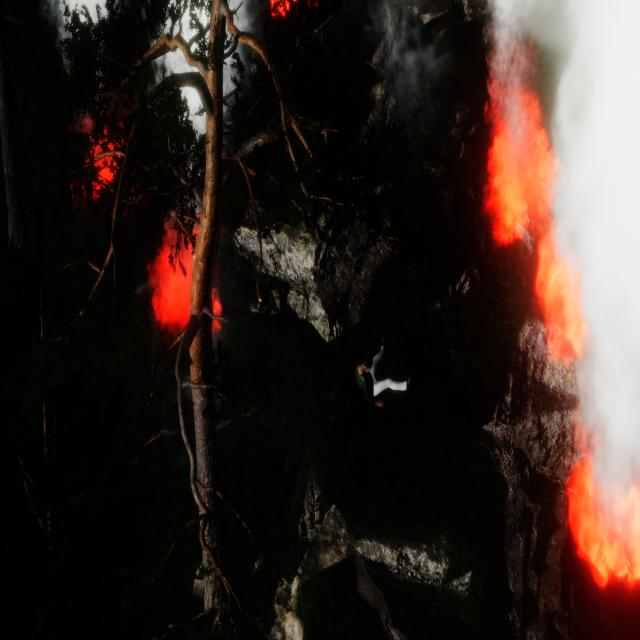Human: (356, 330, 419, 413)
